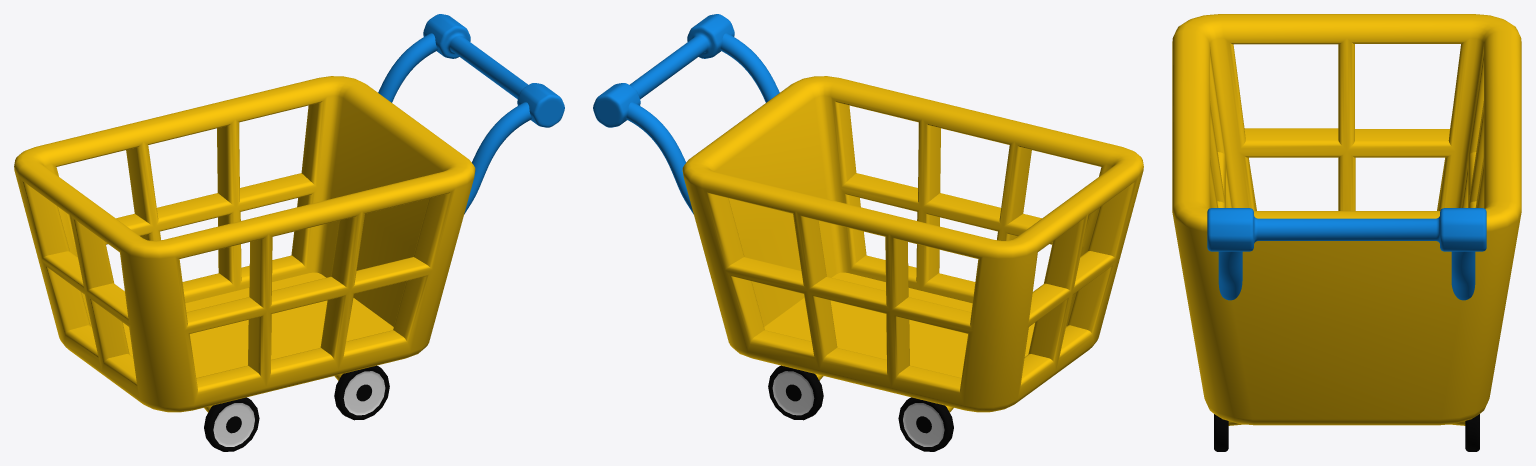
File: cart.glb
3 renders of one model, left to right at view 1: azimuth 30°, elevation 25°; view 2: azimuth 150°, elevation 25°; view 3: azimuth 270°, elevation 25°, orthographic. The views are drawn at different scales.
Parts seen in each view (by area): view 1: Cube, Tutacak, Tekerlekler; view 2: Cube, Tutacak, Tekerlekler; view 3: Cube, Tutacak, Tekerlekler.
Boxes of the visible parts, x1,y1,x2,y2 form: Cube: (14, 76, 475, 412); Tutacak: (378, 14, 564, 214); Tekerlekler: (204, 365, 389, 451); Cube: (682, 76, 1143, 412); Tutacak: (593, 14, 779, 214); Tekerlekler: (768, 365, 953, 451); Cube: (1172, 14, 1521, 425); Tutacak: (1207, 208, 1486, 300); Tekerlekler: (1214, 414, 1479, 451).
Size of the model in its own units: 1.62 by 0.9937 by 0.9001.
